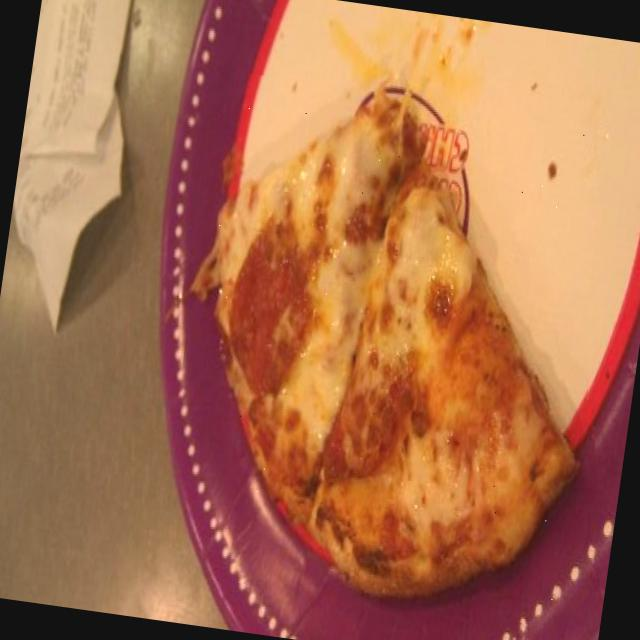pepperoni: (219, 230, 325, 398)
pizza: (195, 92, 577, 599)
